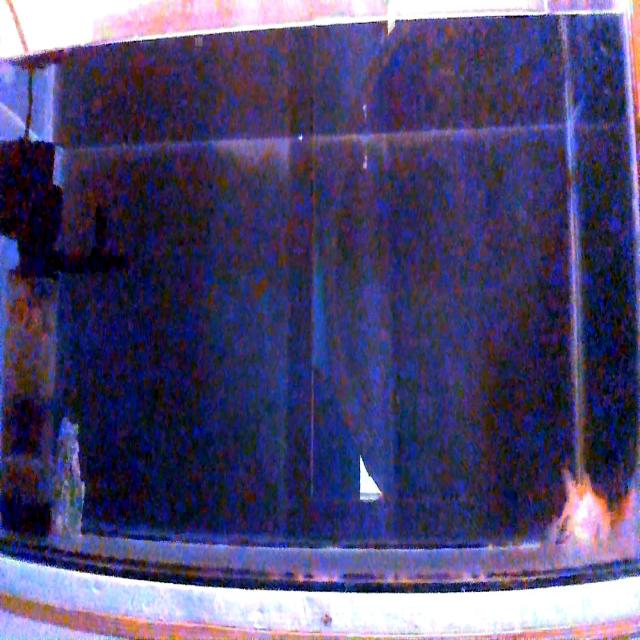fish: (554, 466, 615, 552), (610, 478, 640, 555)
